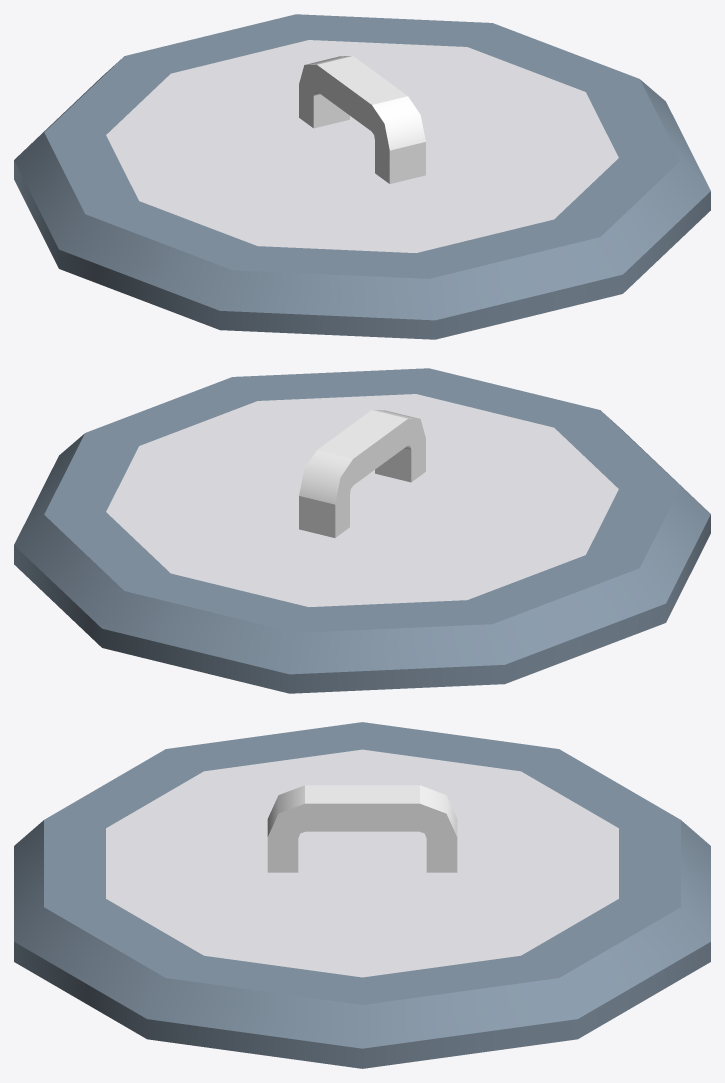
Rendered from potStewLid.obj.
The picture shows the model from 3 angles, top to bottom: view 1: azimuth 30°, elevation 25°; view 2: azimuth 150°, elevation 25°; view 3: azimuth 270°, elevation 25°; orthographic projection. The views are drawn at different scales.
Visible parts, largest first — view 1: potStewLid; view 2: potStewLid; view 3: potStewLid.
Part boxes in pixels (x1,y1,x2,y2): potStewLid: (14,14,710,339); potStewLid: (14,368,710,693); potStewLid: (14,722,710,1068).
Size of the model in its own units: 0.6574 by 0.1184 by 0.6253.
